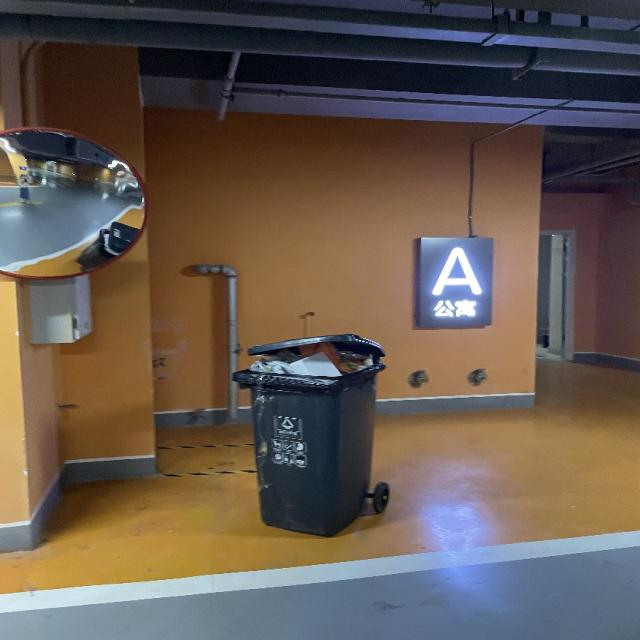overflow: (230, 333, 387, 536)
